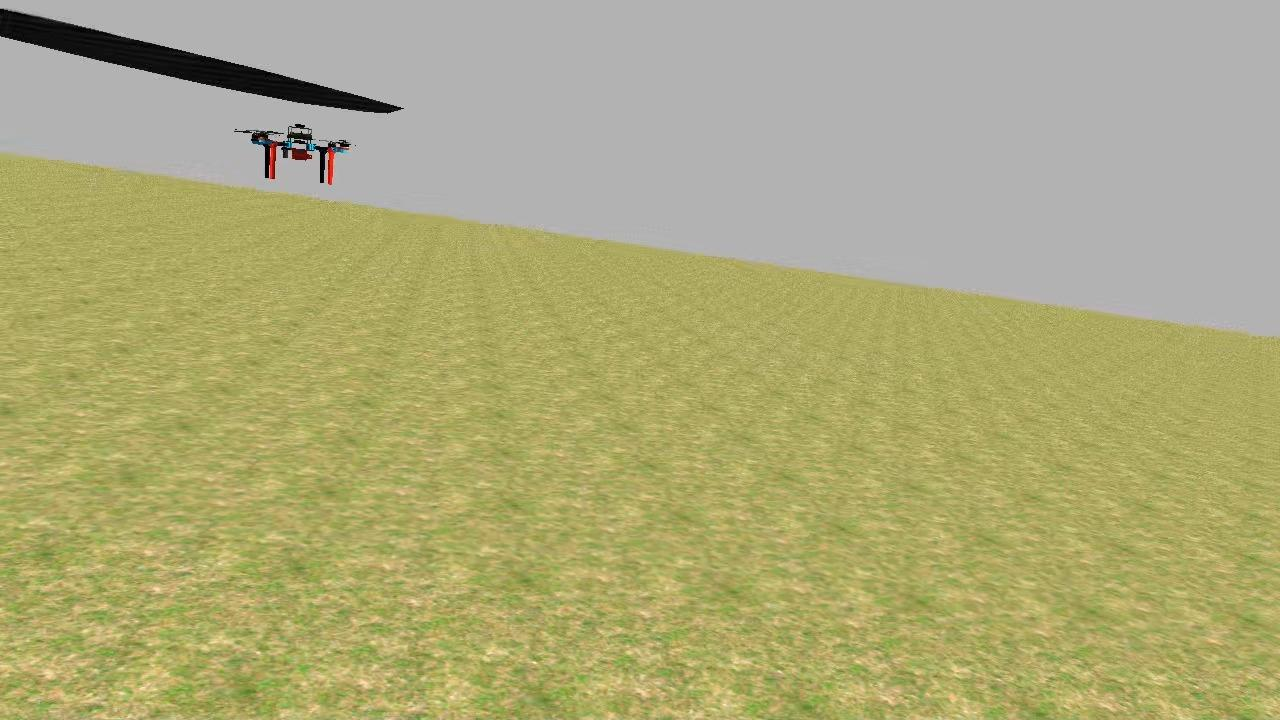UAV: (244, 116, 358, 186)
